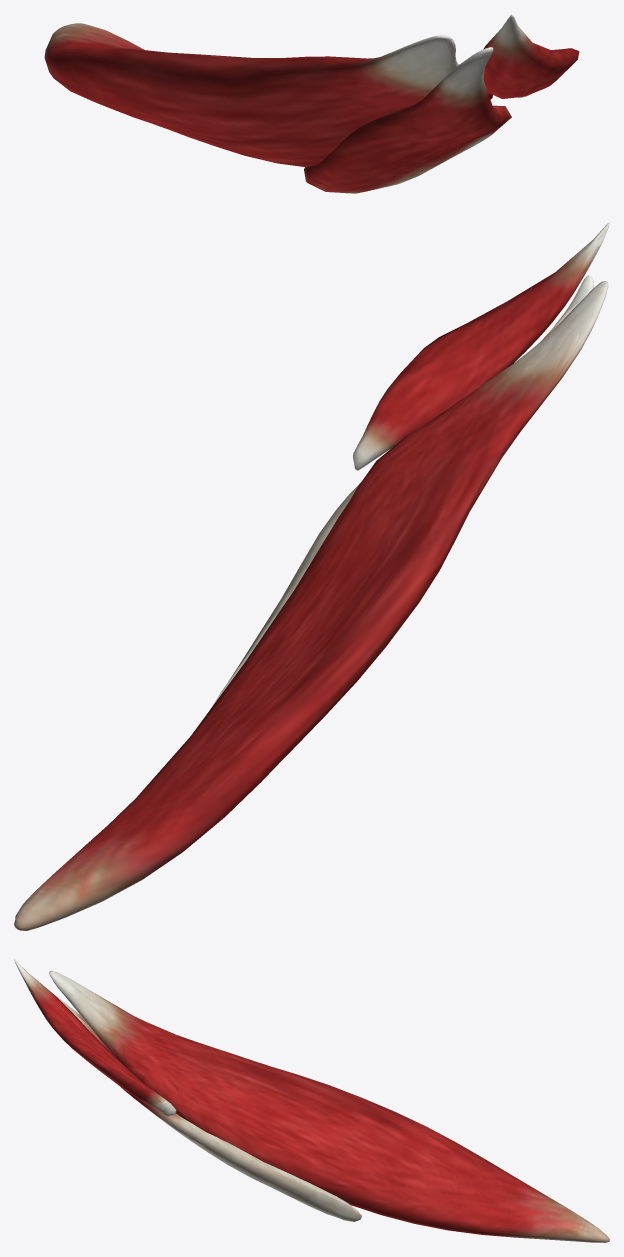
File: R Pectoralis Profundus.fbx
The picture shows the model from 3 angles, top to bottom: view 1: azimuth 30°, elevation 25°; view 2: azimuth 150°, elevation 25°; view 3: azimuth 270°, elevation 25°; orthographic projection. The views are drawn at different scales.
Visible parts, largest first — view 1: R Pectoralis Profundus, R Pectoralis Profundus low, R Pectoralis Profundus high; view 2: R Pectoralis Profundus, R Pectoralis Profundus low, R Pectoralis Profundus high; view 3: R Pectoralis Profundus, R Pectoralis Profundus low, R Pectoralis Profundus high.
Boxes of the visible parts, box(x1,y1,x2,y2) form: R Pectoralis Profundus: box(44, 14, 579, 193); R Pectoralis Profundus low: box(44, 17, 578, 193); R Pectoralis Profundus high: box(48, 16, 568, 187); R Pectoralis Profundus: box(14, 222, 609, 930); R Pectoralis Profundus low: box(15, 223, 608, 928); R Pectoralis Profundus high: box(15, 229, 606, 928); R Pectoralis Profundus: box(14, 959, 609, 1242); R Pectoralis Profundus low: box(15, 960, 607, 1242); R Pectoralis Profundus high: box(14, 961, 605, 1240).
Bounding box in the file's own units: 2.09 × 4.63 × 10.1.
Materials: 1 (1 with a texture image).
